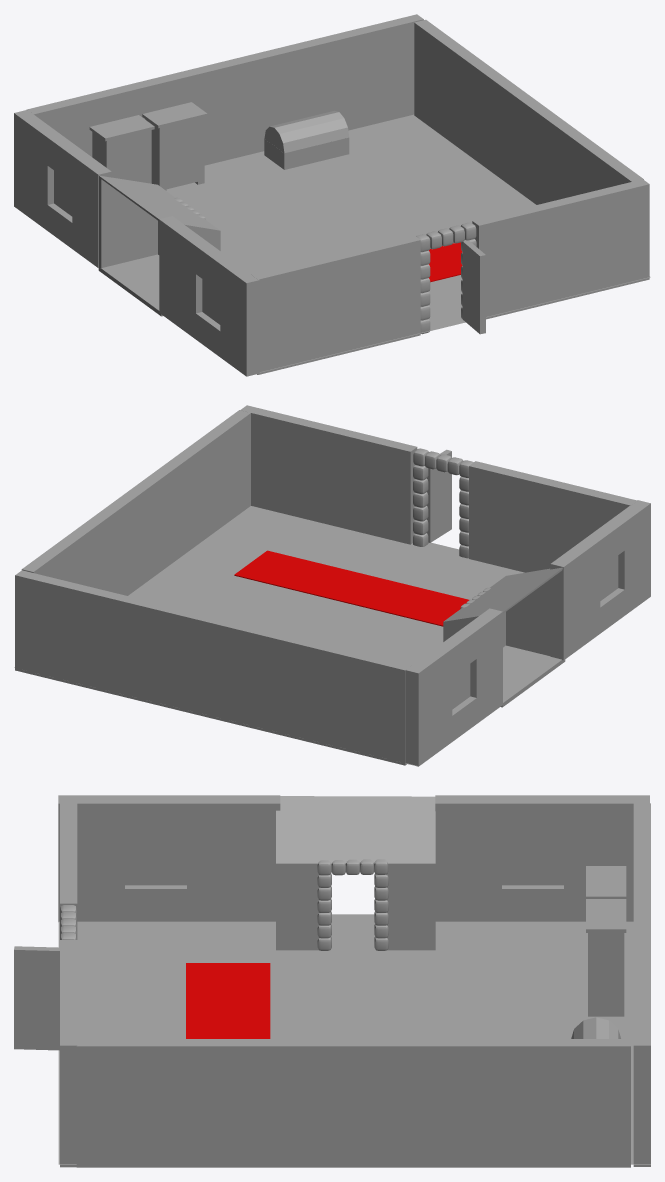
Rendered from dungeon3.fbx.
3 views of the same model, one above another, from view 1: azimuth 30°, elevation 25°; view 2: azimuth 150°, elevation 25°; view 3: azimuth 270°, elevation 25° (orthographic). The views are drawn at different scales.
Parts seen in each view (by area): view 1: pPlane1, pCube25, pCube31, pCube29, pCube27, pCube26, pCube22, pCube30, pCube28, polySurface2, pCube18, pCube32 (+2 smaller); view 2: pCube25, pPlane1, pCube31, pCube29, pCube27, pCube26, pPlane2, pCube22, pCube18, pCube32; view 3: pCube29, pPlane1, pCube31, pCube22, pCube25, pPlane2, pCube32, pCube30, pCube27, pCube19, pCube26, pCube28 (+2 smaller).
Part boxes in pixels (x1=…): pPlane1: x1=101, y1=114, x2=650, y2=372; pCube25: x1=26, y1=14, x2=423, y2=165; pCube31: x1=14, y1=110, x2=259, y2=376; pCube29: x1=414, y1=19, x2=643, y2=204; pCube27: x1=472, y1=179, x2=649, y2=319; pCube26: x1=251, y1=235, x2=420, y2=374; pCube22: x1=98, y1=175, x2=220, y2=316; pCube30: x1=142, y1=102, x2=207, y2=190; pCube28: x1=89, y1=115, x2=154, y2=183; polySurface2: x1=264, y1=110, x2=349, y2=153; pCube18: x1=416, y1=222, x2=476, y2=334; pCube32: x1=462, y1=240, x2=485, y2=334; pCube25: x1=15, y1=570, x2=411, y2=765; pPlane1: x1=14, y1=506, x2=561, y2=765; pCube31: x1=405, y1=500, x2=650, y2=766; pCube29: x1=21, y1=410, x2=250, y2=595; pCube27: x1=240, y1=405, x2=417, y2=544; pCube26: x1=469, y1=461, x2=637, y2=572; pPlane2: x1=234, y1=550, x2=468, y2=626; pCube22: x1=443, y1=567, x2=565, y2=707; pCube18: x1=413, y1=448, x2=473, y2=558; pCube32: x1=427, y1=449, x2=451, y2=542; pCube29: x1=76, y1=1039, x2=630, y2=1167; pPlane1: x1=58, y1=914, x2=650, y2=1164; pCube31: x1=58, y1=795, x2=649, y2=921; pCube22: x1=276, y1=796, x2=435, y2=950; pCube25: x1=633, y1=803, x2=650, y2=1166; pPlane2: x1=186, y1=963, x2=270, y2=1038; pCube32: x1=14, y1=946, x2=59, y2=1050; pCube30: x1=586, y1=899, x2=626, y2=1016; pCube27: x1=60, y1=940, x2=77, y2=1167; pCube19: x1=317, y1=859, x2=388, y2=950; pCube26: x1=60, y1=802, x2=77, y2=939; pCube28: x1=586, y1=866, x2=626, y2=898.
Bounding box in the file's own units: 30.52 × 6.97 × 32.71.
